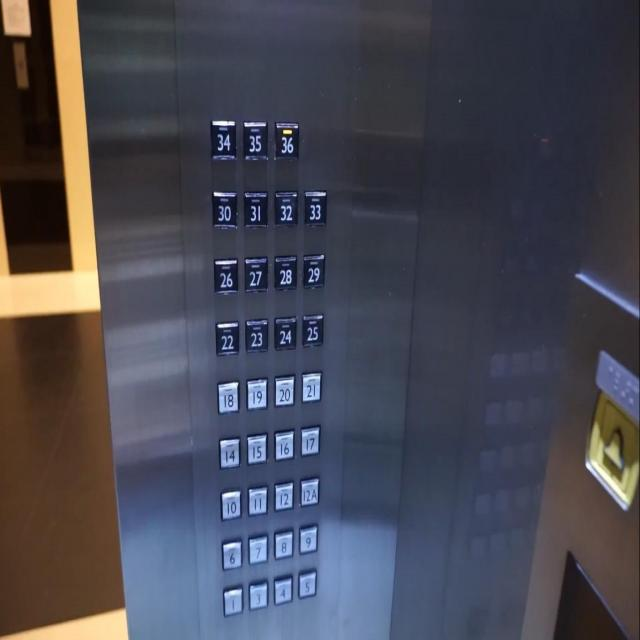1: (221, 582, 244, 618)
10: (219, 487, 242, 521)
11: (244, 481, 269, 518)
12: (272, 477, 294, 512)
12A: (298, 472, 320, 508)
14: (217, 434, 241, 471)
15: (244, 429, 268, 466)
16: (271, 426, 295, 462)
17: (298, 421, 322, 457)
18: (215, 377, 239, 414)
19: (244, 373, 268, 411)
20: (272, 371, 296, 408)
21: (298, 367, 324, 405)
22: (213, 316, 240, 356)
23: (243, 314, 269, 354)
24: (272, 313, 296, 350)
25: (300, 311, 324, 347)
26: (212, 255, 239, 295)
27: (242, 254, 268, 294)
28: (271, 252, 298, 292)
29: (301, 251, 326, 288)
3: (246, 578, 268, 611)
30: (210, 187, 238, 230)
31: (242, 186, 270, 229)
32: (272, 187, 298, 228)
33: (301, 186, 327, 227)
34: (208, 117, 236, 161)
35: (241, 118, 269, 162)
36: (273, 118, 299, 162)
4: (271, 573, 293, 606)
5: (296, 568, 317, 600)
6: (220, 537, 242, 571)
7: (246, 533, 268, 565)
8: (272, 527, 294, 560)
9: (297, 521, 318, 555)
